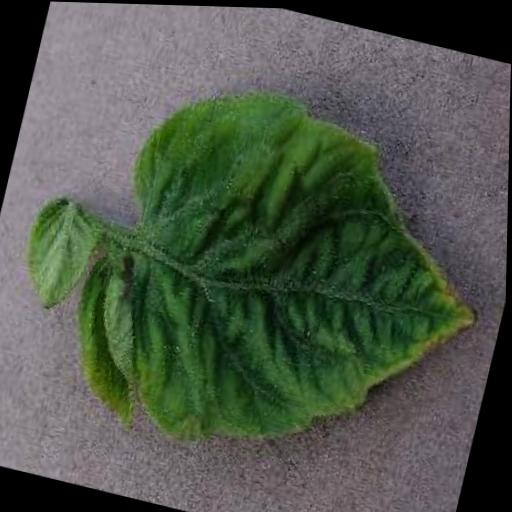Yellow Leaf Curl Virus: (56, 53, 511, 501)
